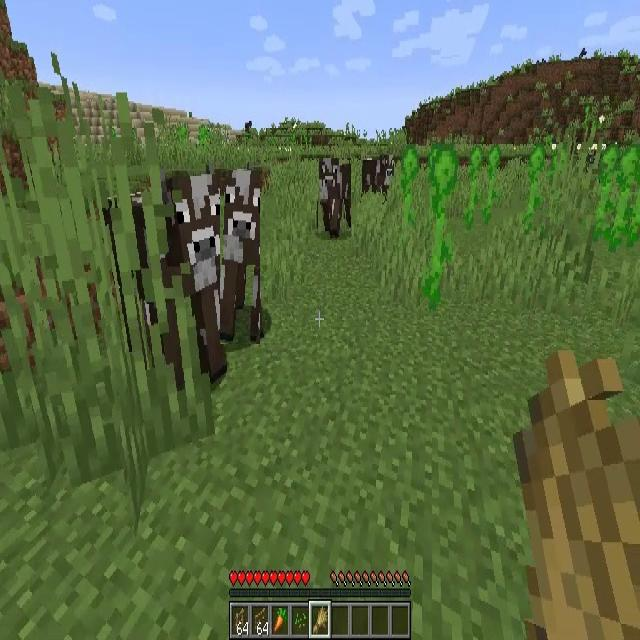cow: (103, 180, 221, 388), (220, 170, 260, 344), (318, 158, 351, 237), (361, 153, 395, 200)
